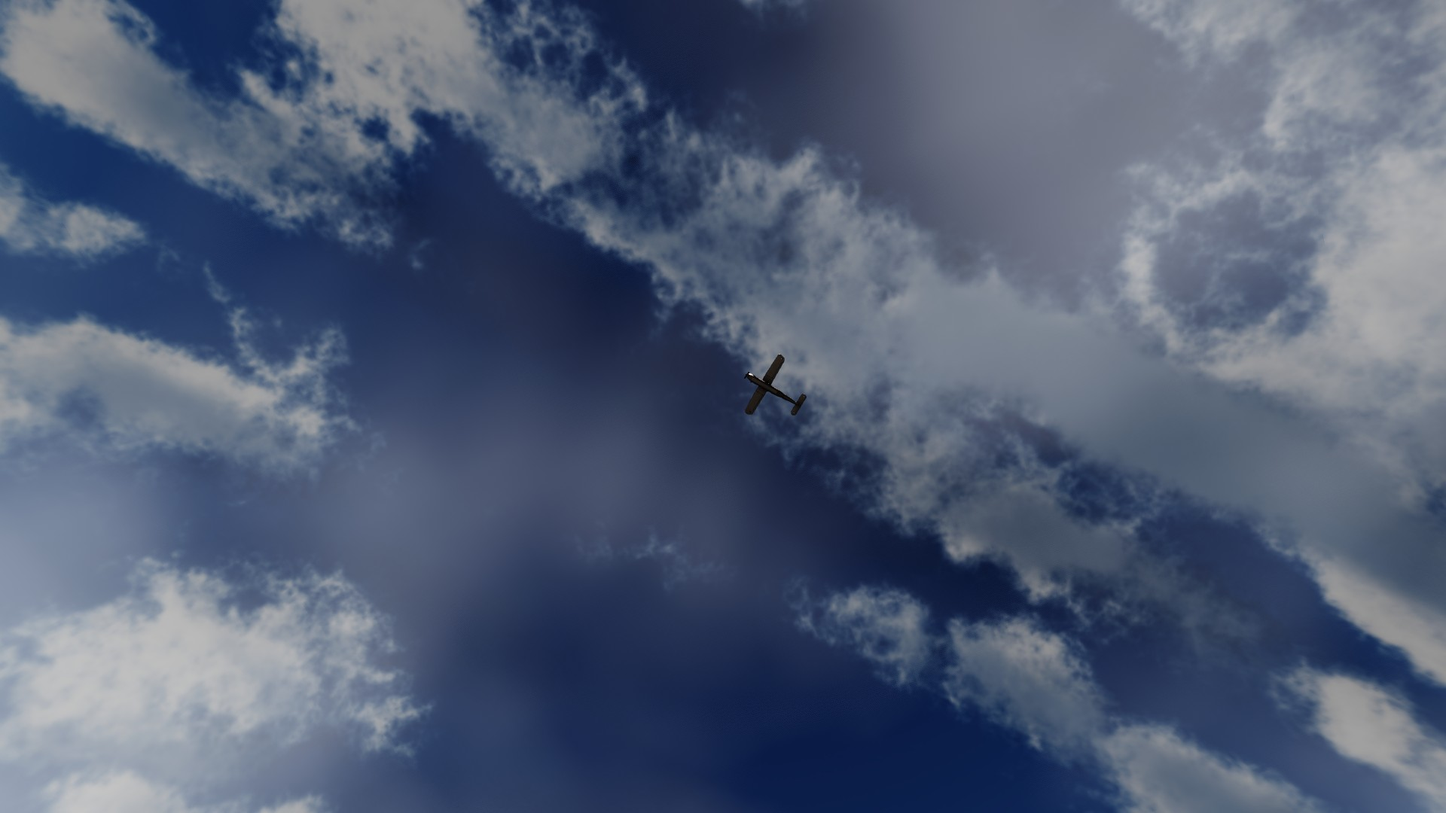drone_other: (744, 354, 807, 416)
